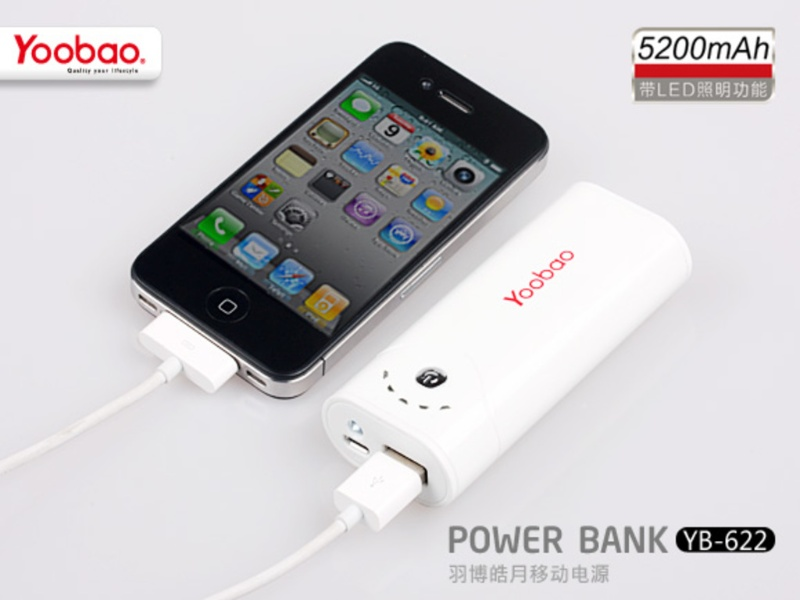cellphone: (127, 58, 554, 396)
